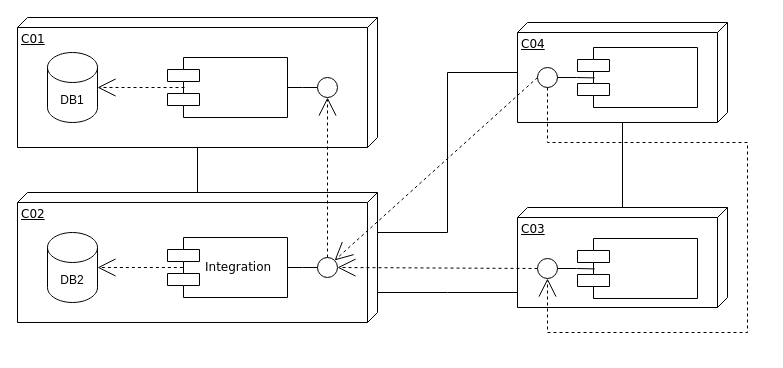
Image size: 783x368. Some labels were removed from this diagram. Here are the shapes that lost their labels. From the top down, the centre of each, then its label:
pixel 227 87: Core
pixel 637 77: Frotend
pixel 637 268: Vending
